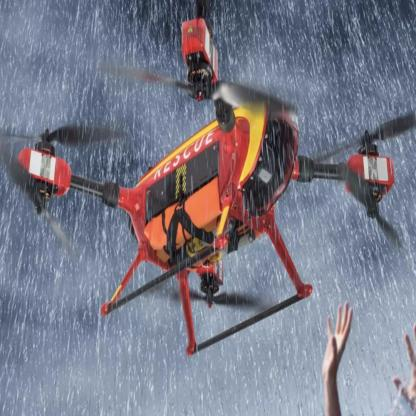drone: (8, 28, 412, 267)
